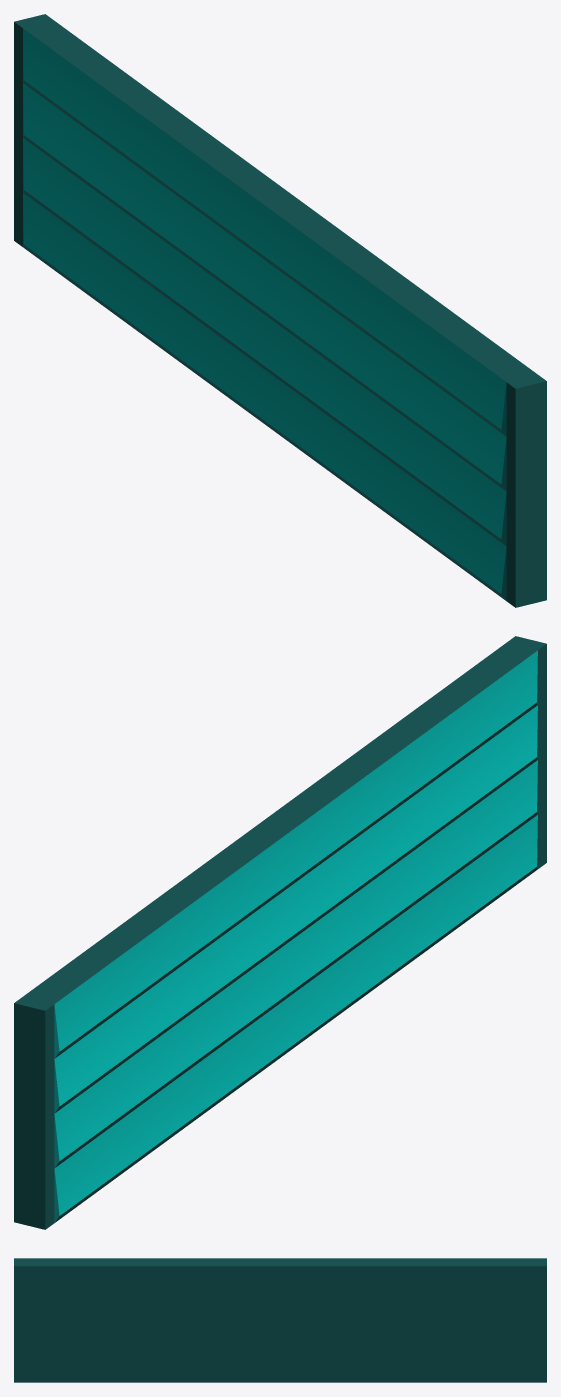
File: TSP_House_Wall_Rail_02A.fbx
3 views of the same model, one above another, from view 1: azimuth 30°, elevation 25°; view 2: azimuth 150°, elevation 25°; view 3: azimuth 270°, elevation 25° (orthographic). The views are drawn at different scales.
Visible parts, largest first — view 1: TSP_House_Wall_Rail_02A; view 2: TSP_House_Wall_Rail_02A; view 3: TSP_House_Wall_Rail_02A.
Part boxes in pixels (left/top/right/bottom): TSP_House_Wall_Rail_02A: left=14, top=14, right=546, bottom=607; TSP_House_Wall_Rail_02A: left=14, top=636, right=546, bottom=1229; TSP_House_Wall_Rail_02A: left=14, top=1258, right=546, bottom=1382.
Bounding box in the file's own units: 16 × 100 × 415.
